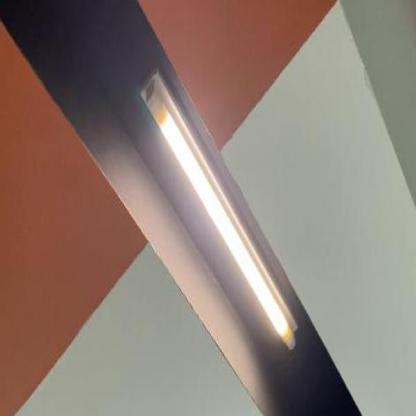light_on: (130, 59, 306, 361)
